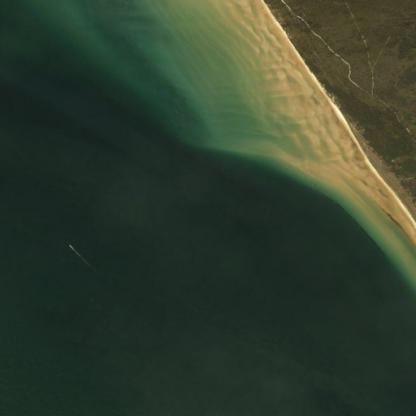ship: (62, 239, 79, 253)
